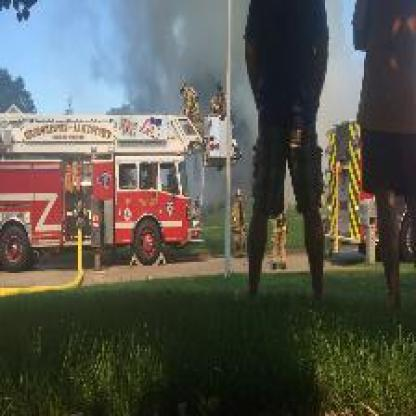other: (3, 153, 193, 255)
smoke: (114, 4, 249, 109), (324, 1, 356, 125), (233, 115, 252, 202)
